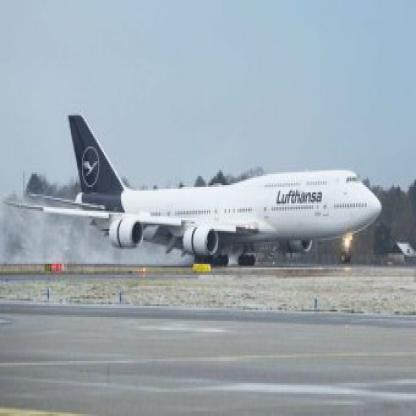CIV_Plane: (6, 105, 384, 272)
